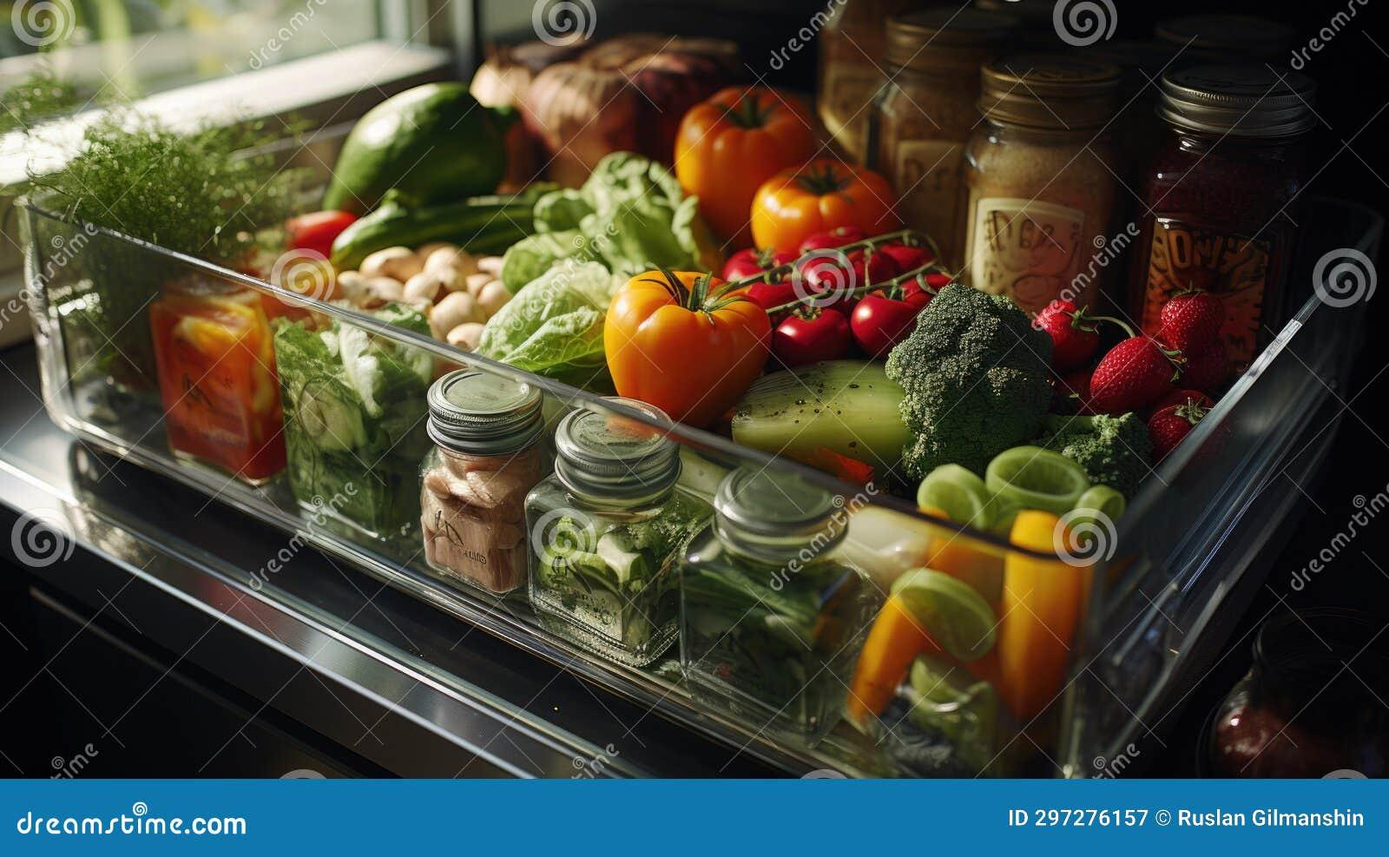bell pepper: (564, 250, 790, 418), (693, 85, 904, 236)
brocolli: (889, 294, 1067, 461)
tomato: (733, 223, 979, 348)
